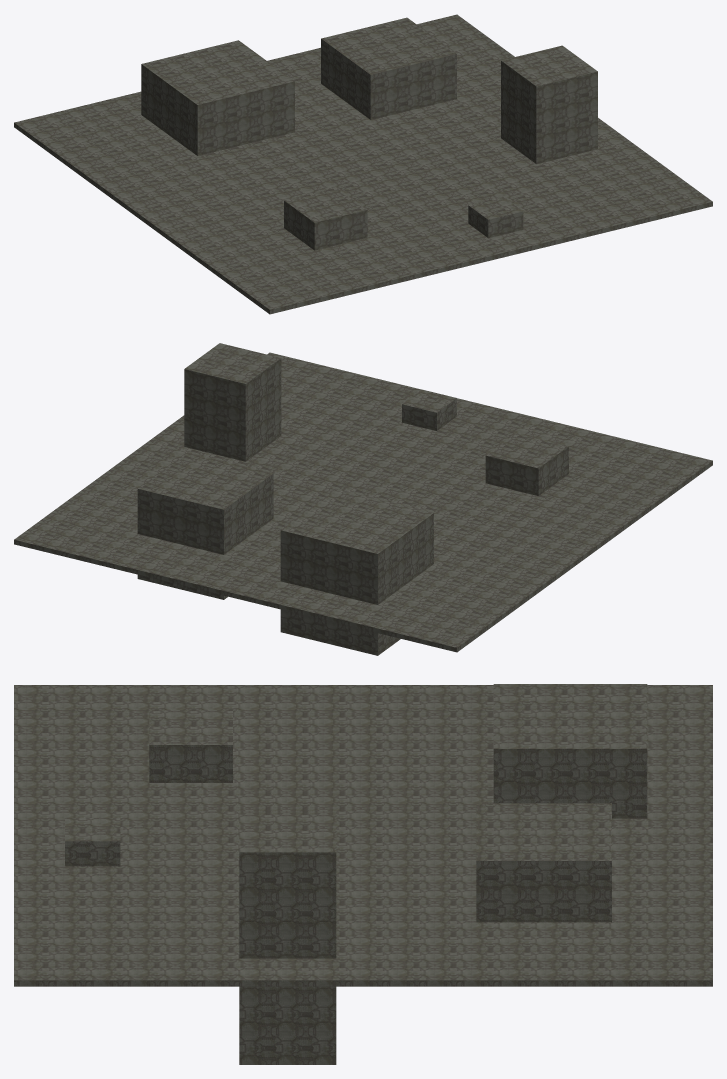
Rendered from movement_level.gltf.
3 renders of one model, top to bottom at view 1: azimuth 30°, elevation 25°; view 2: azimuth 150°, elevation 25°; view 3: azimuth 270°, elevation 25°, orthographic. The views are drawn at different scales.
Parts seen in each view (by area): view 1: level; view 2: level; view 3: level.
Part boxes in pixels (box(x1,y1,x2,y2)): level: box(14, 14, 712, 314); level: box(14, 343, 712, 655); level: box(14, 684, 712, 1064).
Size of the model in its own units: 37.7 by 12.64 by 37.7.
1 material, 1 textured.
